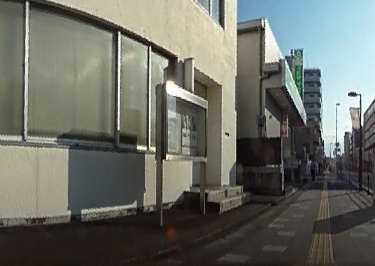person: (309, 158, 318, 181)
